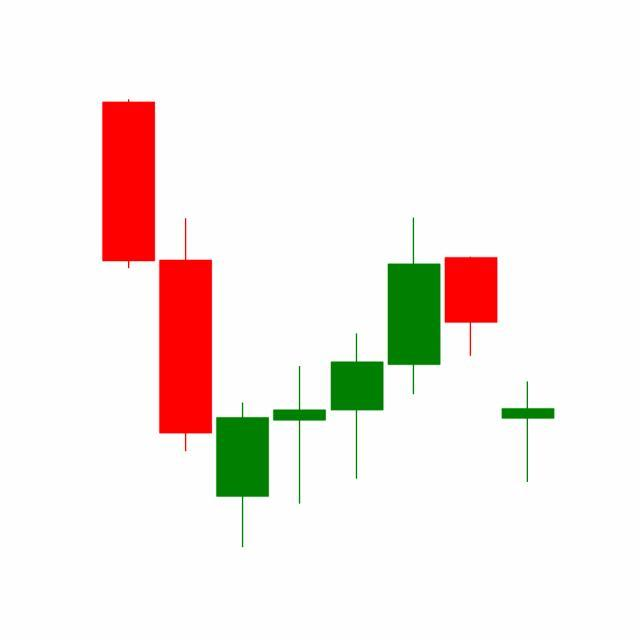Hikkake Pattern: (270, 215, 555, 507)
